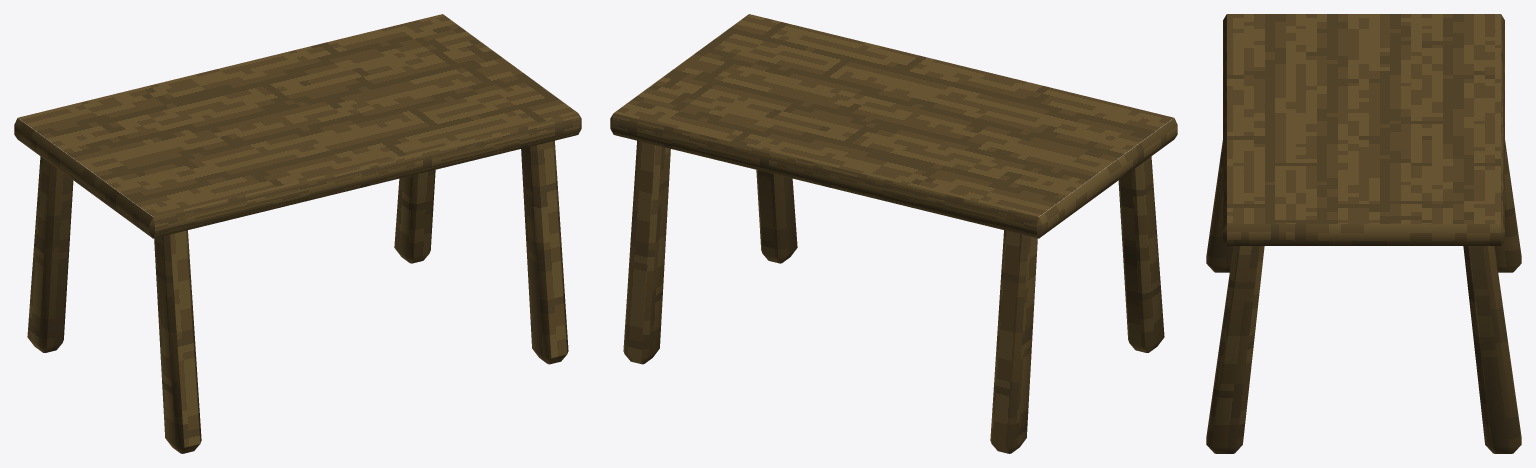
Rendered from Long Table.fbx.
3 renders of one model, left to right at view 1: azimuth 30°, elevation 25°; view 2: azimuth 150°, elevation 25°; view 3: azimuth 270°, elevation 25°, orthographic.
Parts seen in each view (by area): view 1: Long_Table; view 2: Long_Table; view 3: Long_Table.
Part boxes in pixels (x1,y1,x2,y2): Long_Table: [14, 14, 581, 453]; Long_Table: [610, 14, 1177, 453]; Long_Table: [1206, 14, 1521, 453].
Size of the model in its own units: 228 by 120 by 142.
1 material, 1 textured.
